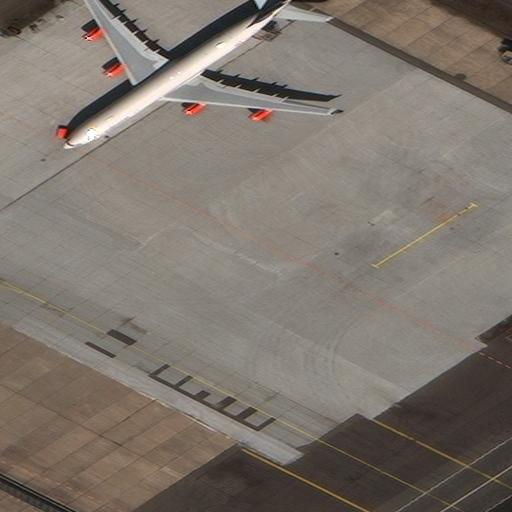Large Civil Transport: (60, 0, 331, 151)
